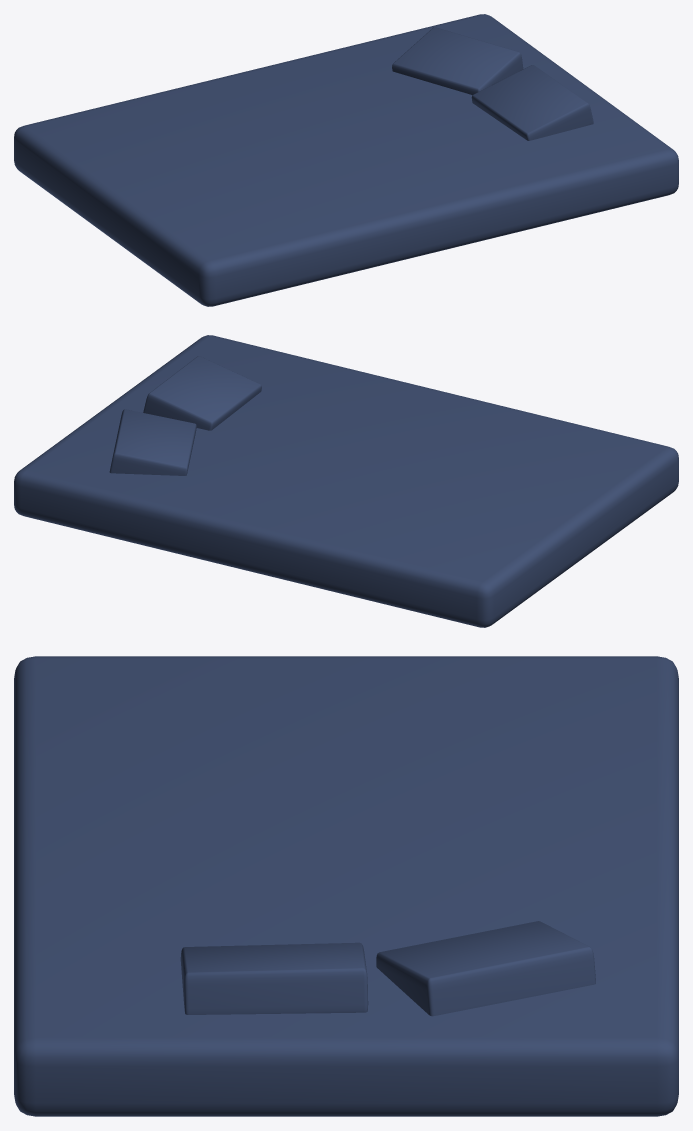
The model's file is bed.fbx.
3 views of the same model, one above another, from view 1: azimuth 30°, elevation 25°; view 2: azimuth 150°, elevation 25°; view 3: azimuth 270°, elevation 25° (orthographic). The views are drawn at different scales.
Visible parts, largest first — view 1: body002, body004, body003; view 2: body002, body004, body003; view 3: body002, body003, body004.
Boxes of the visible parts, bbox=[...] form: body002: bbox=[14, 14, 678, 306]; body004: bbox=[471, 65, 593, 140]; body003: bbox=[392, 27, 523, 94]; body002: bbox=[14, 335, 678, 627]; body004: bbox=[143, 356, 261, 430]; body003: bbox=[109, 409, 196, 475]; body002: bbox=[14, 656, 678, 1116]; body003: bbox=[376, 921, 595, 1016]; body004: bbox=[180, 942, 368, 1014].
Size of the model in its own units: 41.31 by 5.59 by 29.24.
